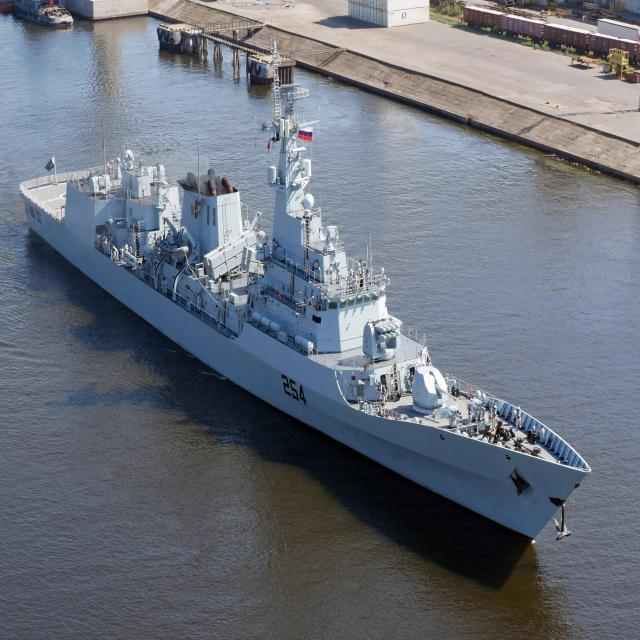Fragata: (18, 39, 599, 573)
